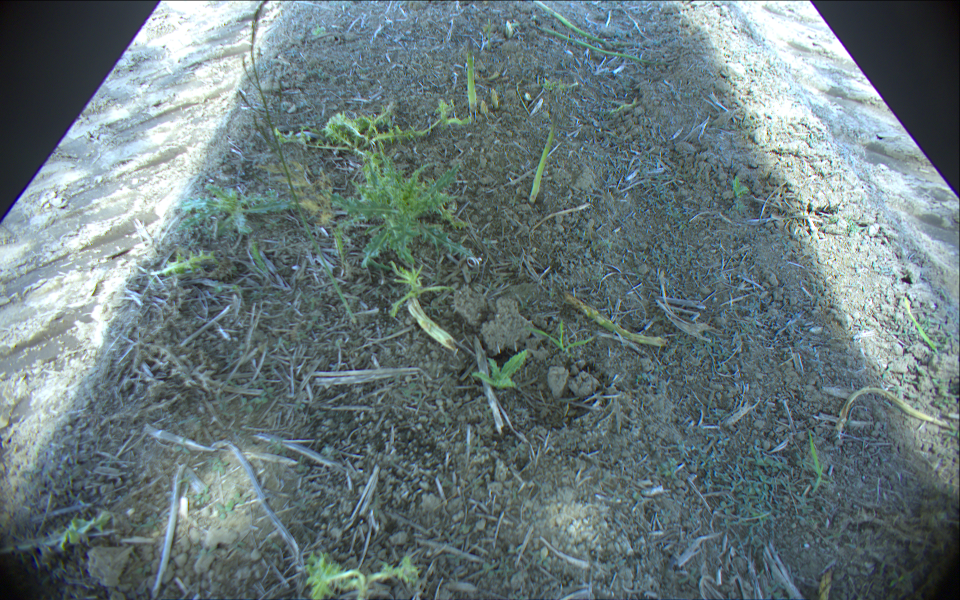aspa: (562, 293, 667, 349), (838, 385, 960, 432), (537, 26, 673, 62), (534, 1, 611, 43), (528, 115, 555, 203), (465, 36, 479, 121), (491, 88, 500, 113), (487, 17, 492, 53)
